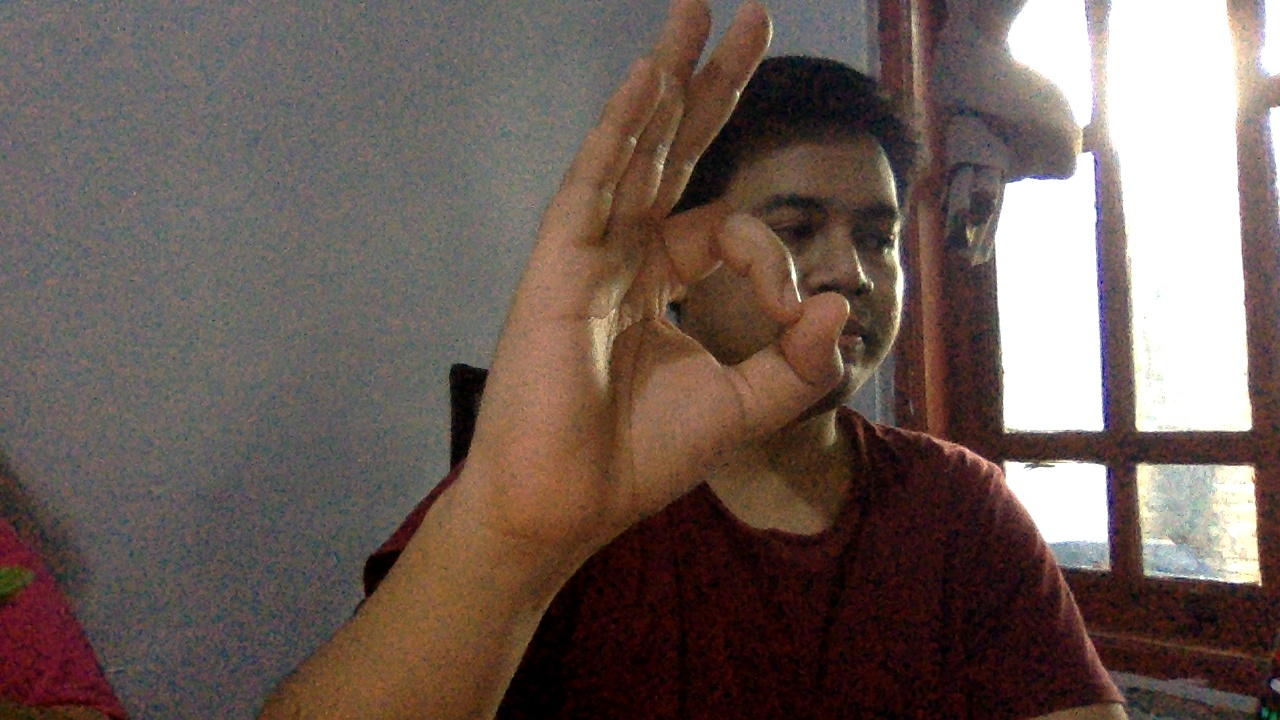thankyou: (441, 1, 894, 579)
